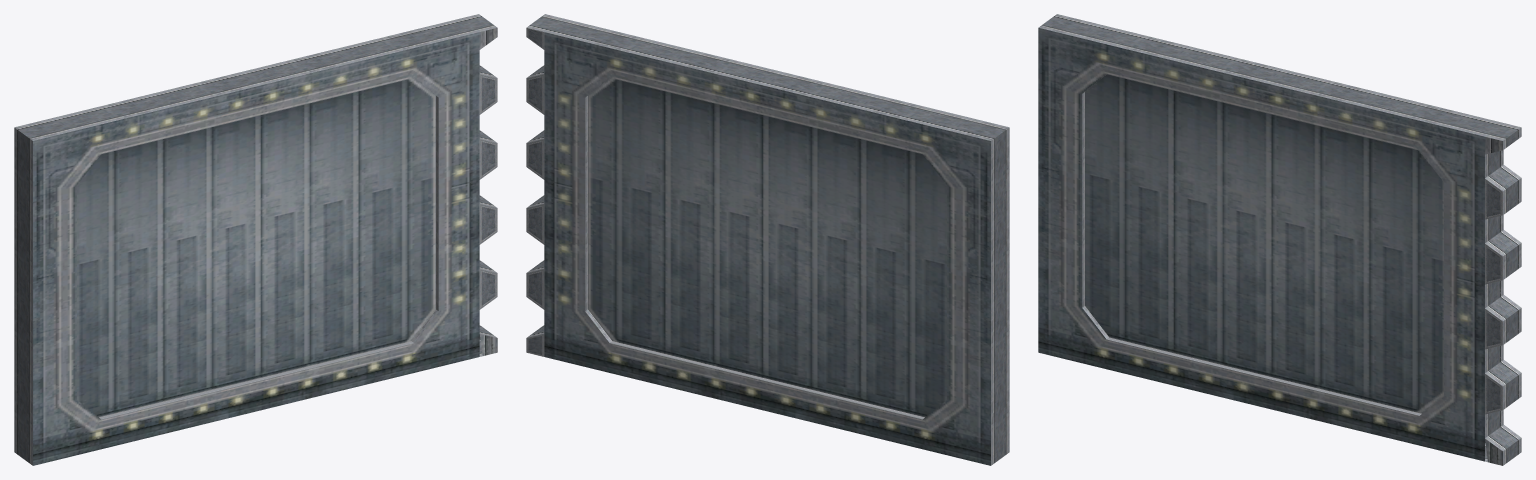
File: space_station_door_1.fbx
The picture shows the model from 3 angles, left to right: view 1: azimuth 30°, elevation 25°; view 2: azimuth 150°, elevation 25°; view 3: azimuth 330°, elevation 25°; orthographic projection.
Parts seen in each view (by area): view 1: mesh_node; view 2: mesh_node; view 3: mesh_node.
Boxes of the visible parts, x1,y1,x2,y2 form: mesh_node: (14,14,497,465); mesh_node: (526,14,1009,465); mesh_node: (1038,14,1521,465).
Size of the model in its own units: 56.19 by 37.55 by 3.93.
